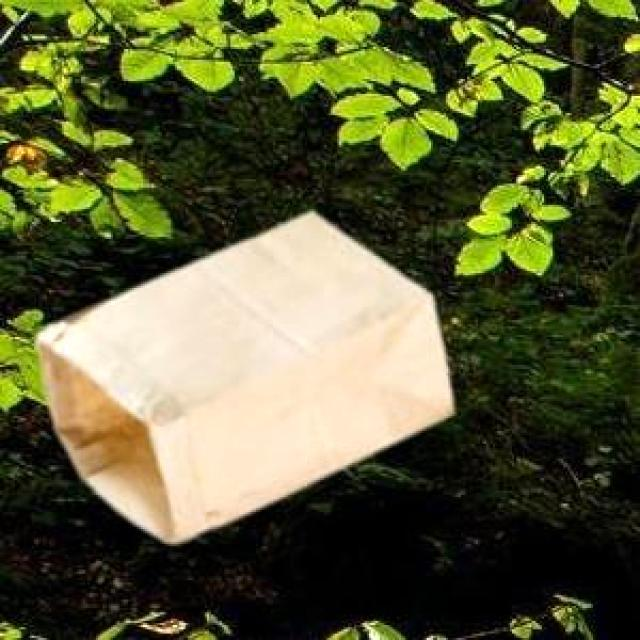Paper_Bag: (33, 210, 449, 541)
